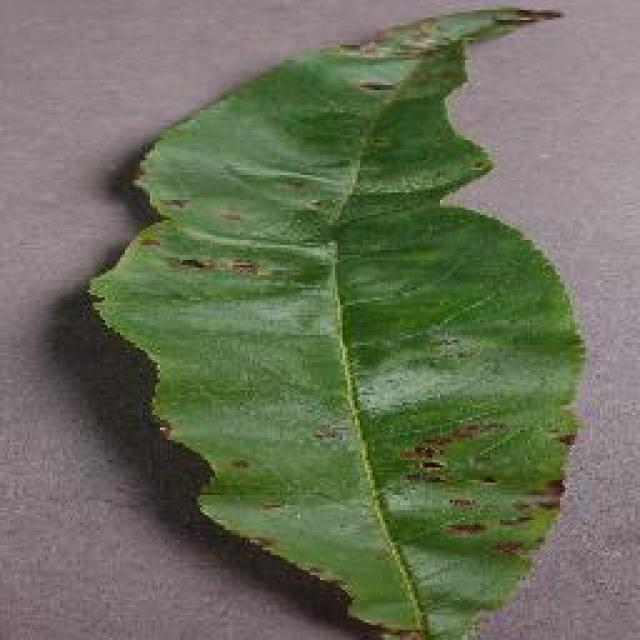Peach_Bacterial_Spot: (172, 73, 528, 507)
